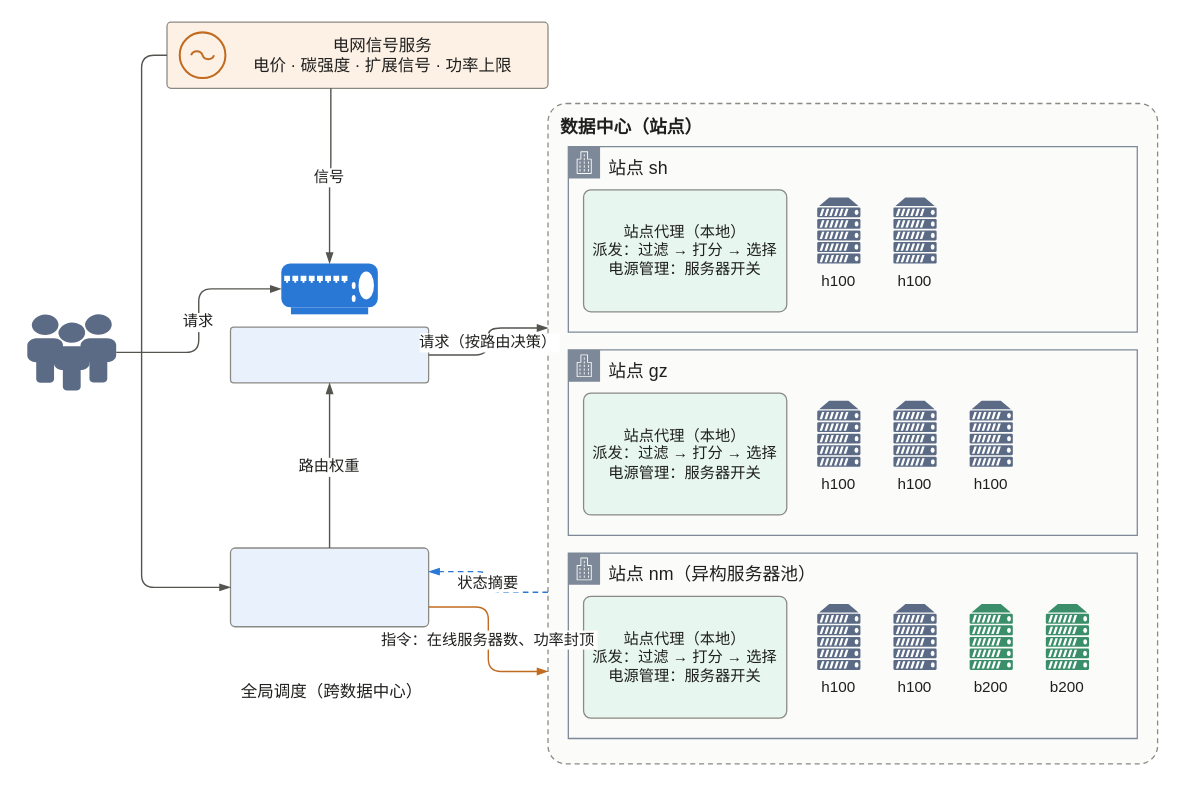
This 1180x786 diagram has some shape labels left out. The centre of each missing label's shape, as x and y in pixels:
控制器（全局） 容量策略：周期性给出 各站点指令与路由权重: [329,587]
来源区域 （用户请求）: [71,352]
网关（全局） 路由策略：逐请求选站点: [329,354]
